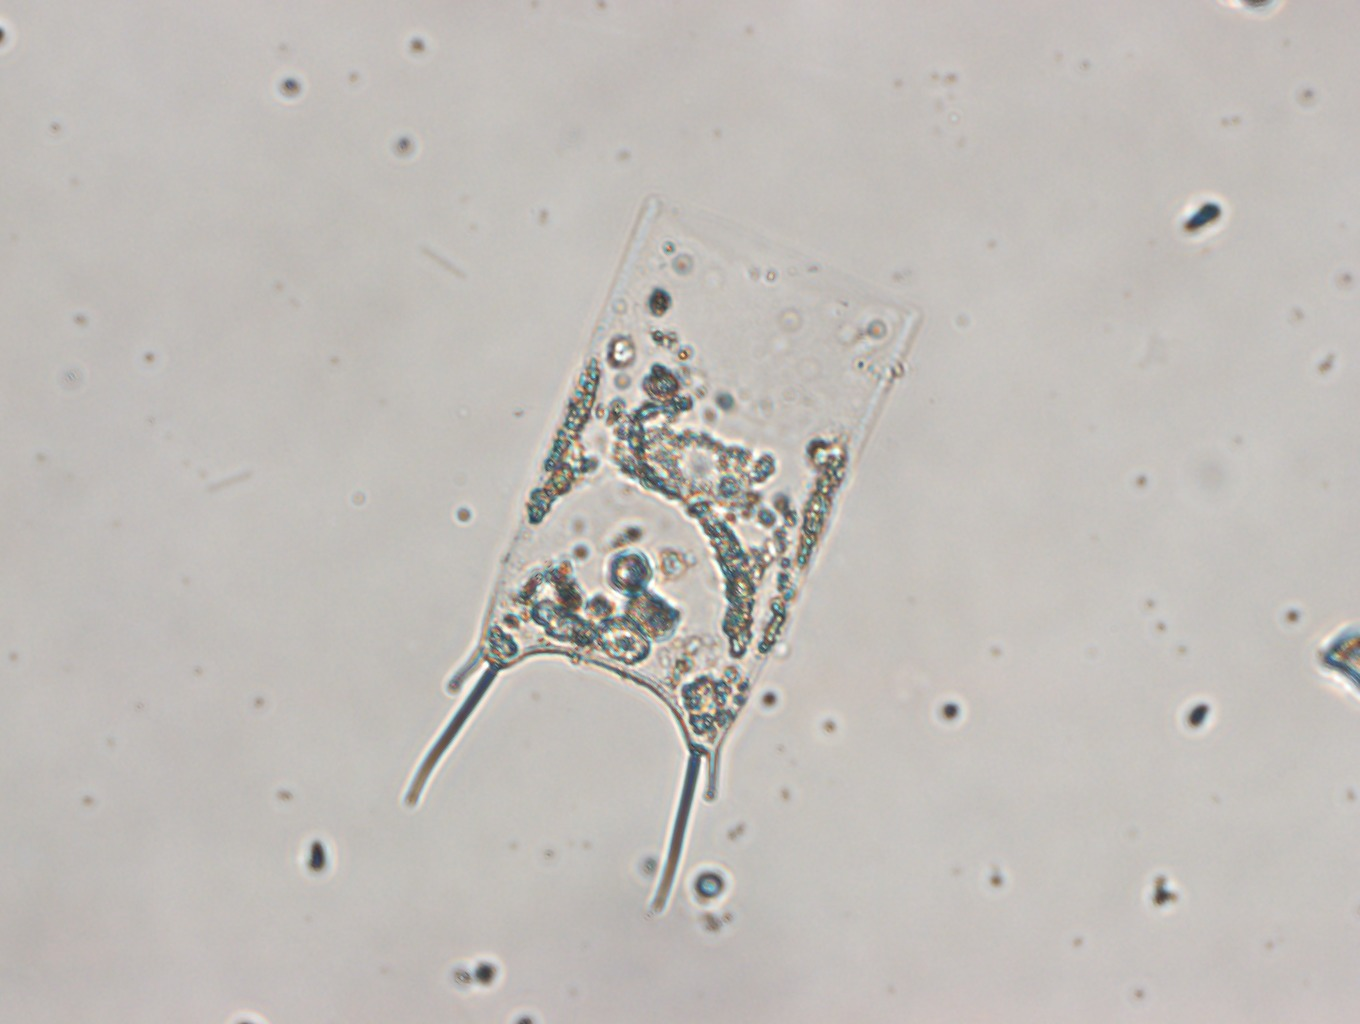biddulphia: (403, 193, 922, 916)
